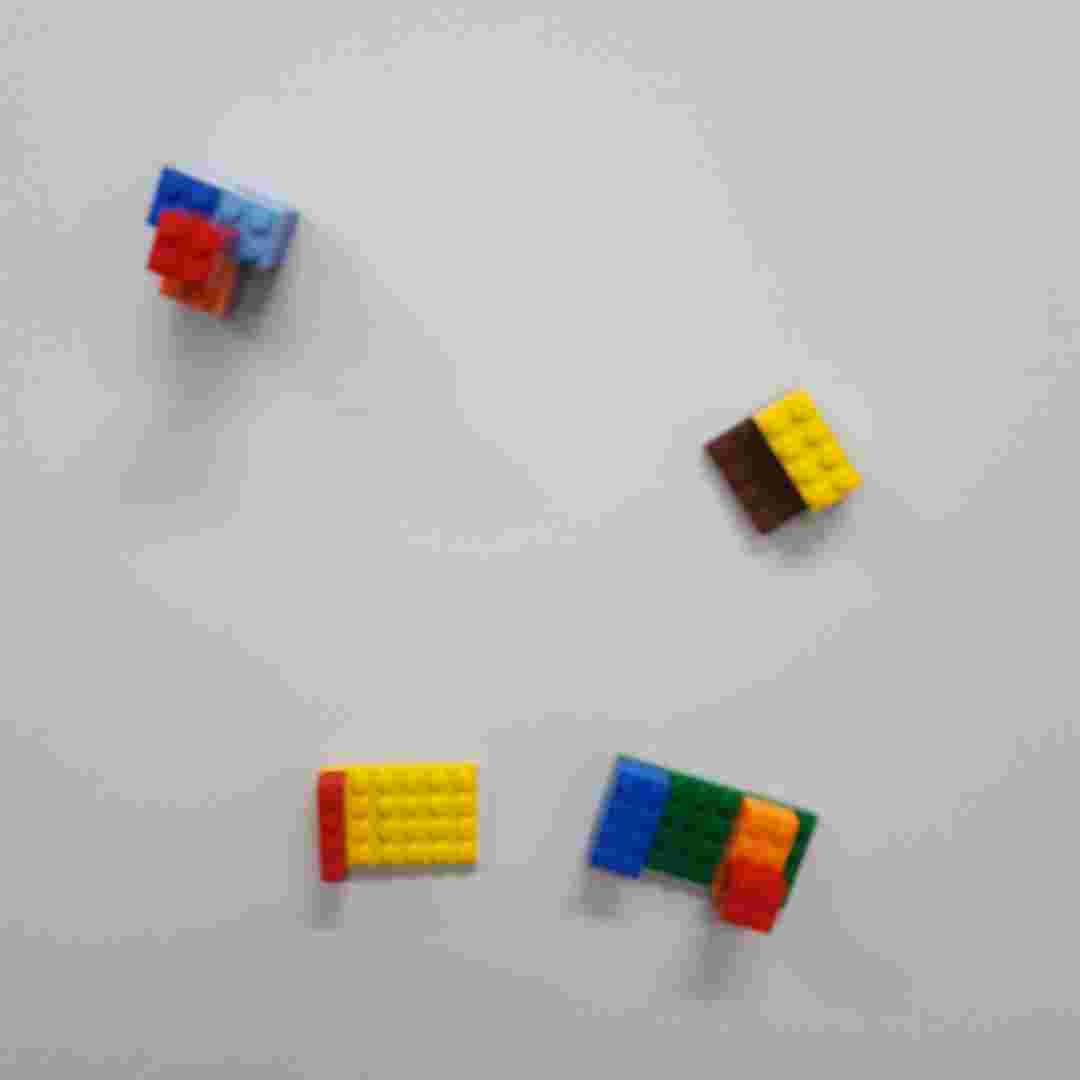LEGO: (585, 754, 825, 937), (136, 165, 301, 322), (705, 386, 862, 541), (309, 757, 491, 878)
